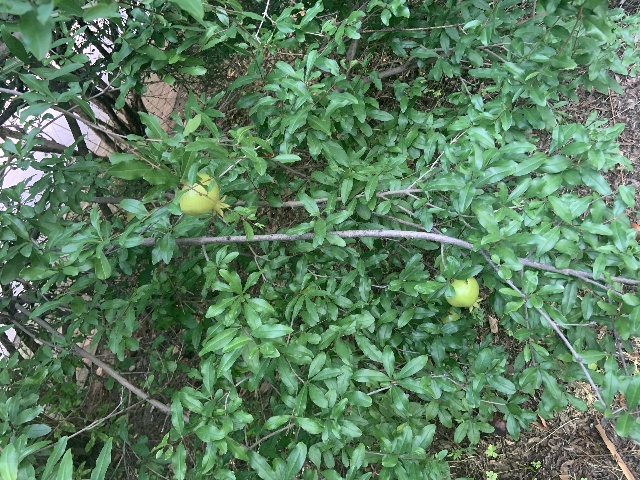mid-growth: (175, 172, 230, 217), (444, 276, 483, 312)
